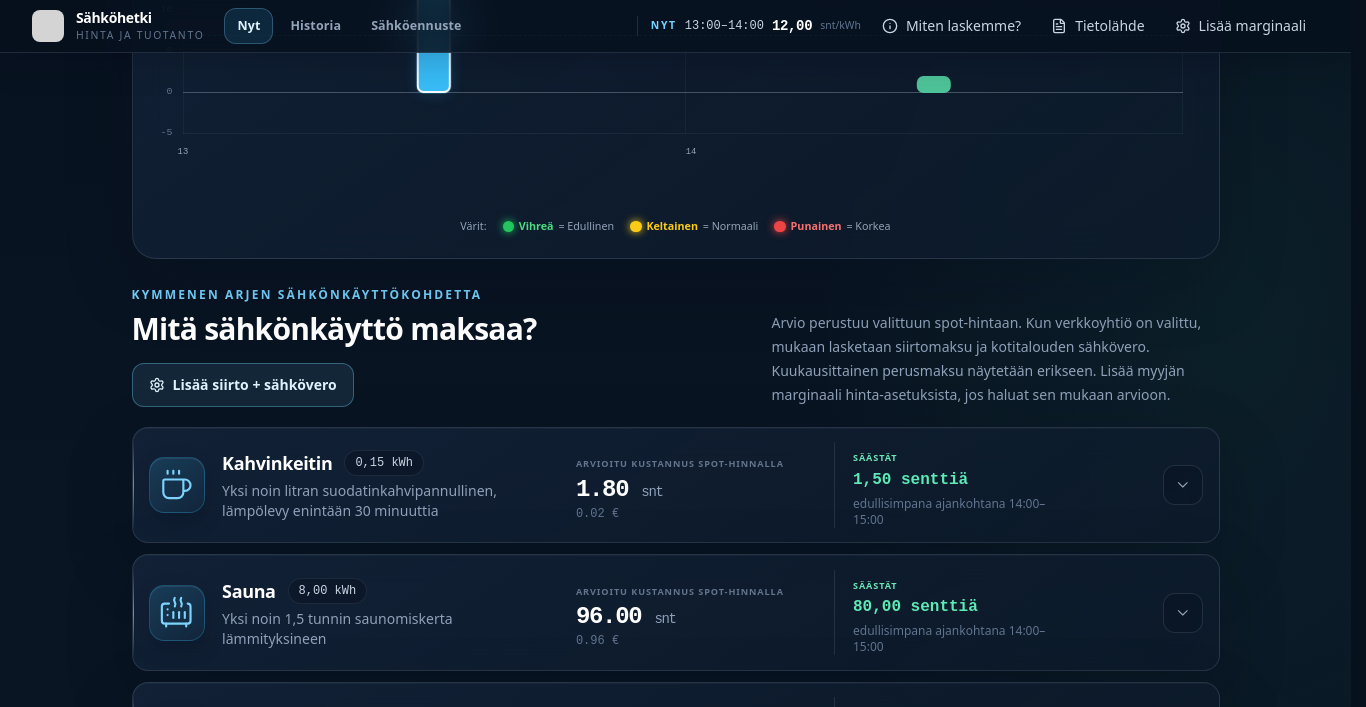
it: keeps transfer controls in the settings modal and opens it from the usage section
(page scrolled)
Expected: the dropdown labelled "Kunta" is not shown
Step 1. Click the button "Lisää siirto + sähkövero" → (243, 385), box [132, 363, 354, 407]
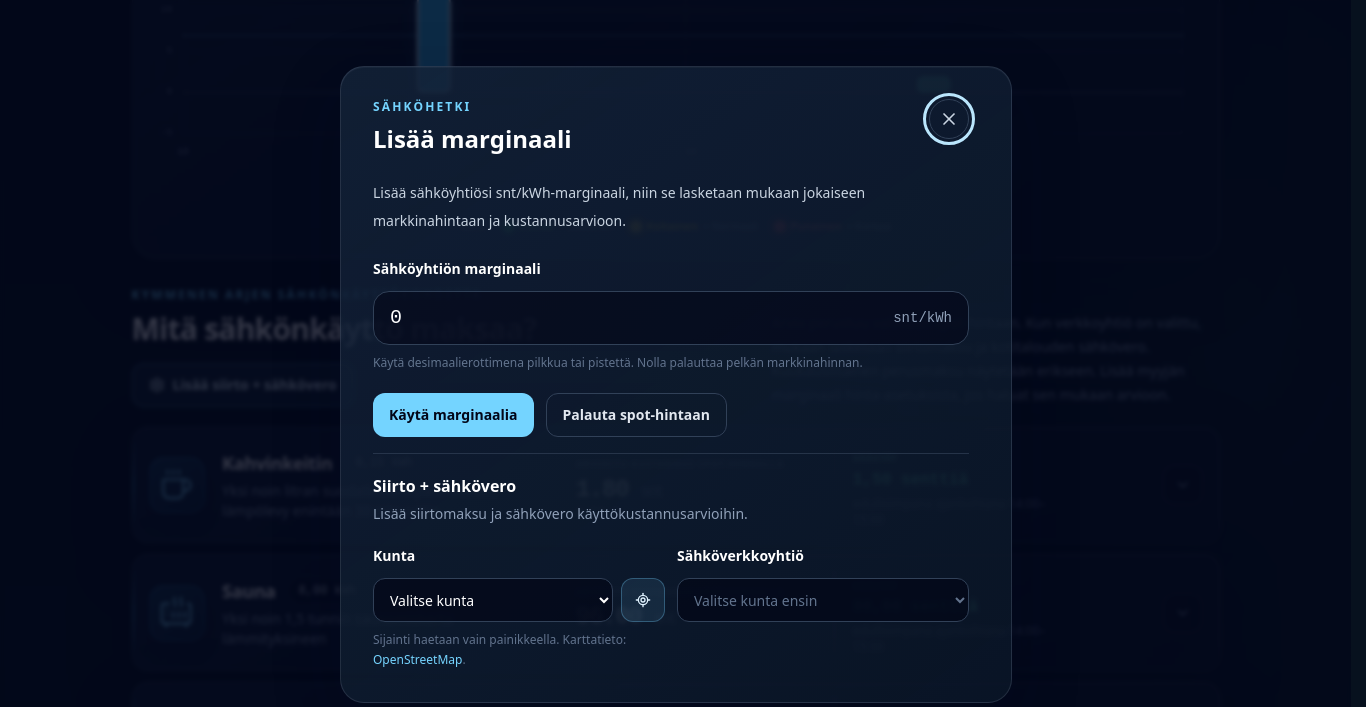
Expected: the dropdown labelled "Kunta" is shown
Expected: the dropdown labelled "Sähköverkkoyhtiö" is shown, [676, 578, 968, 622]
Expected: the text "Lisää siirtomaksu ja sähkövero käyttökustannusarvioihin." is shown, [372, 504, 747, 522]
Step 2. Select "Kemi" in the dropdown labelled "Kunta" → (492, 600), box [372, 578, 612, 622]
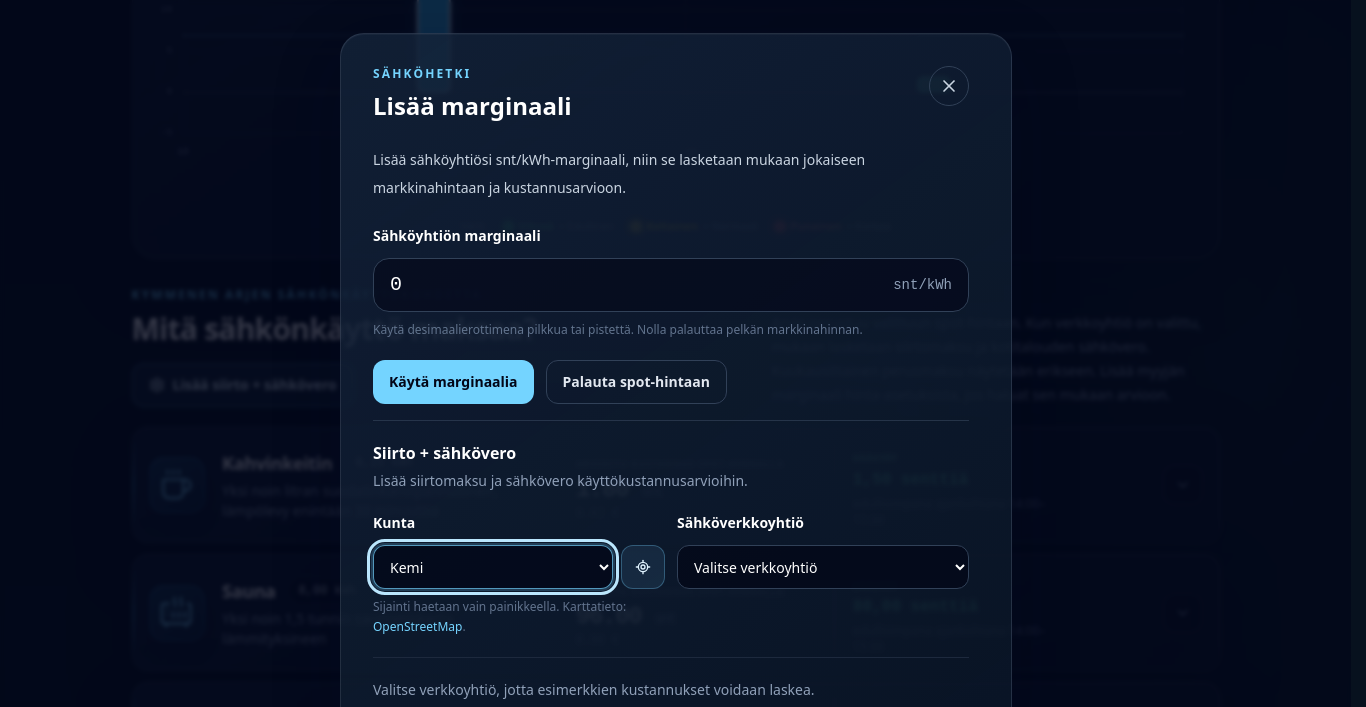
Step 3. Select "Kemin Energia ja Vesi Oy" in the dropdown labelled "Sähköverkkoyhtiö" → (822, 567), box [676, 545, 968, 589]
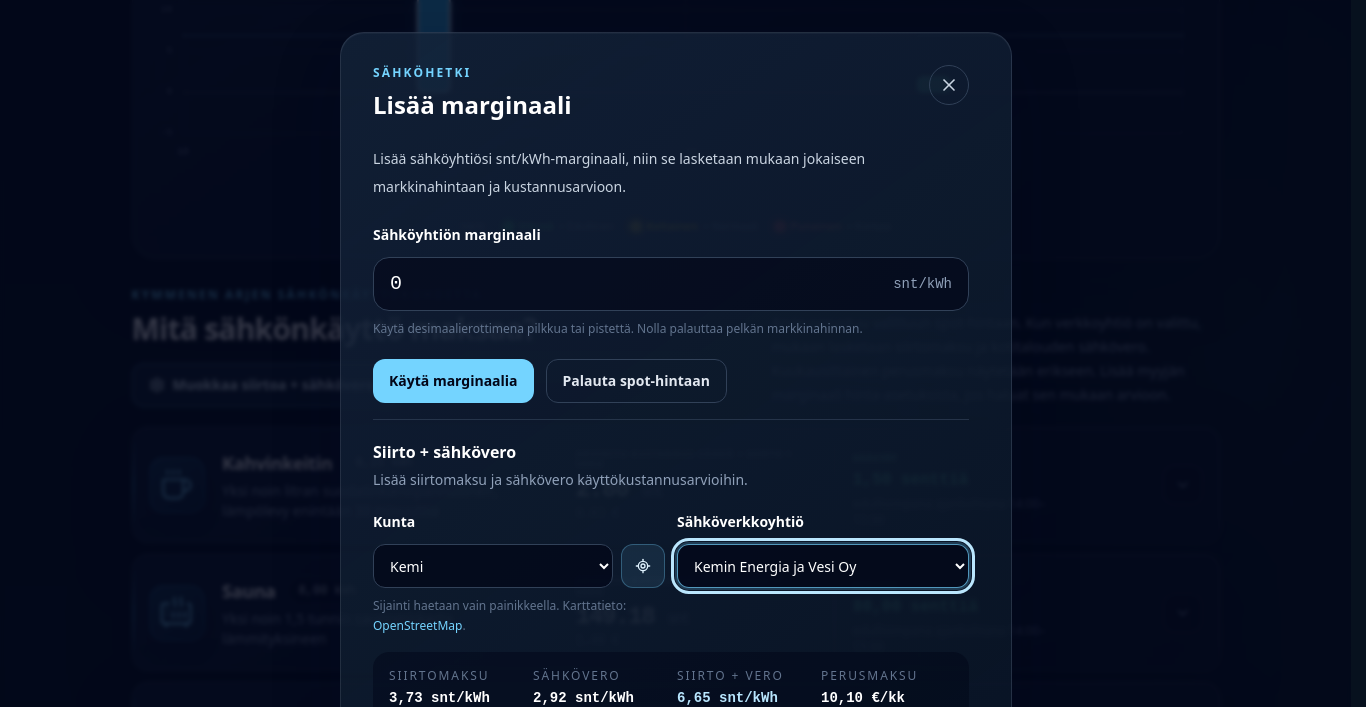
Expected: the button "Muokkaa siirtoa + sähköveroa" is shown, [132, 363, 400, 407]
